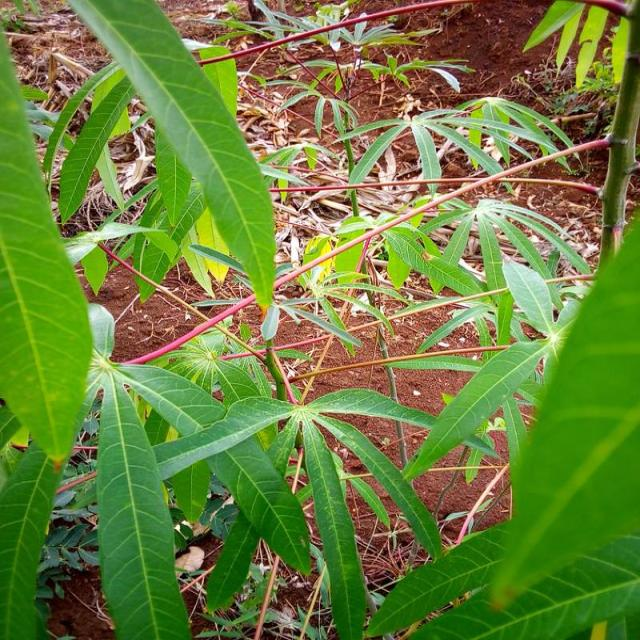cassava leaf: (367, 209, 640, 638), (66, 0, 278, 315), (0, 27, 94, 467)
